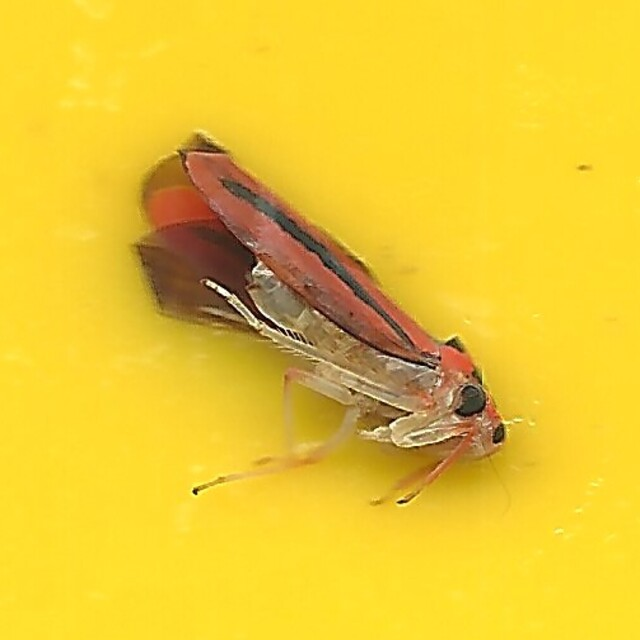Hemiptera: (127, 129, 513, 511)
